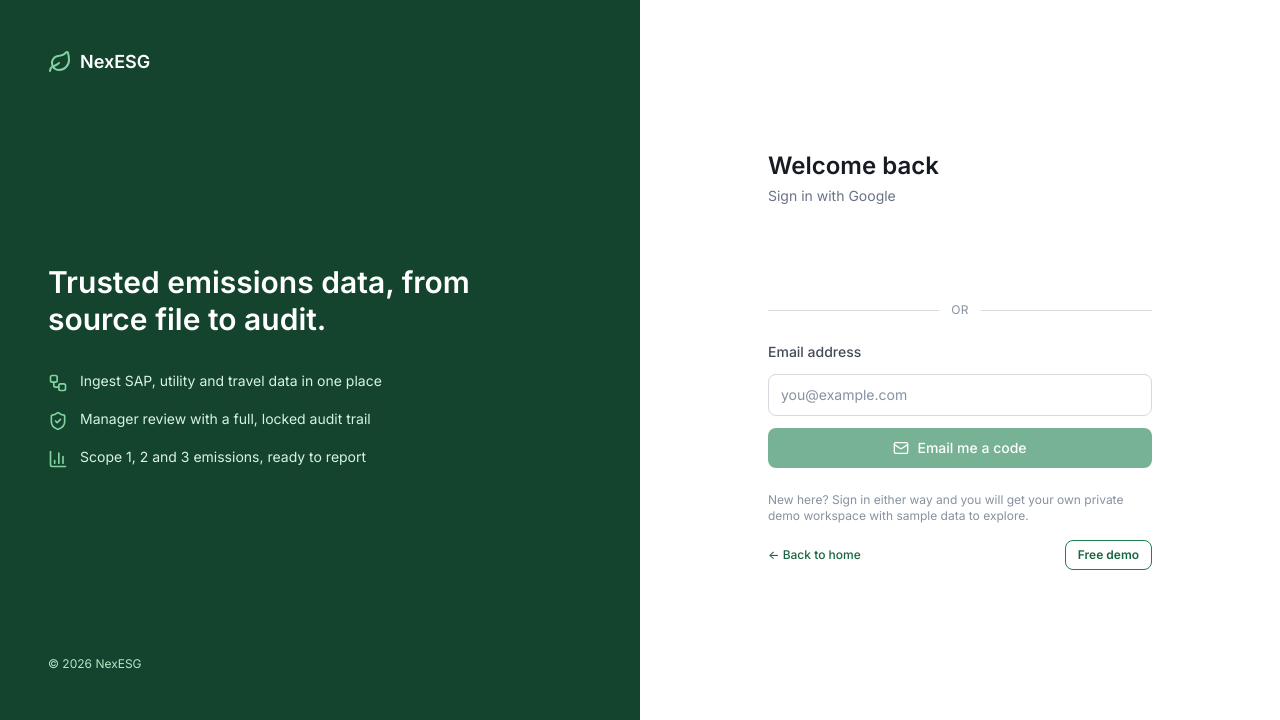
Test: free demo and header menus › the login page has a Free demo button and only the one-line Google heading text
The width and height of the screenshot is (1280, 720).
Expected: the text "Sign in with Google" is shown, x1=768 y1=187 x2=896 y2=204
Click the button "Free demo".
click(1108, 555)  # box x1=1065 y1=540 x2=1152 y2=570
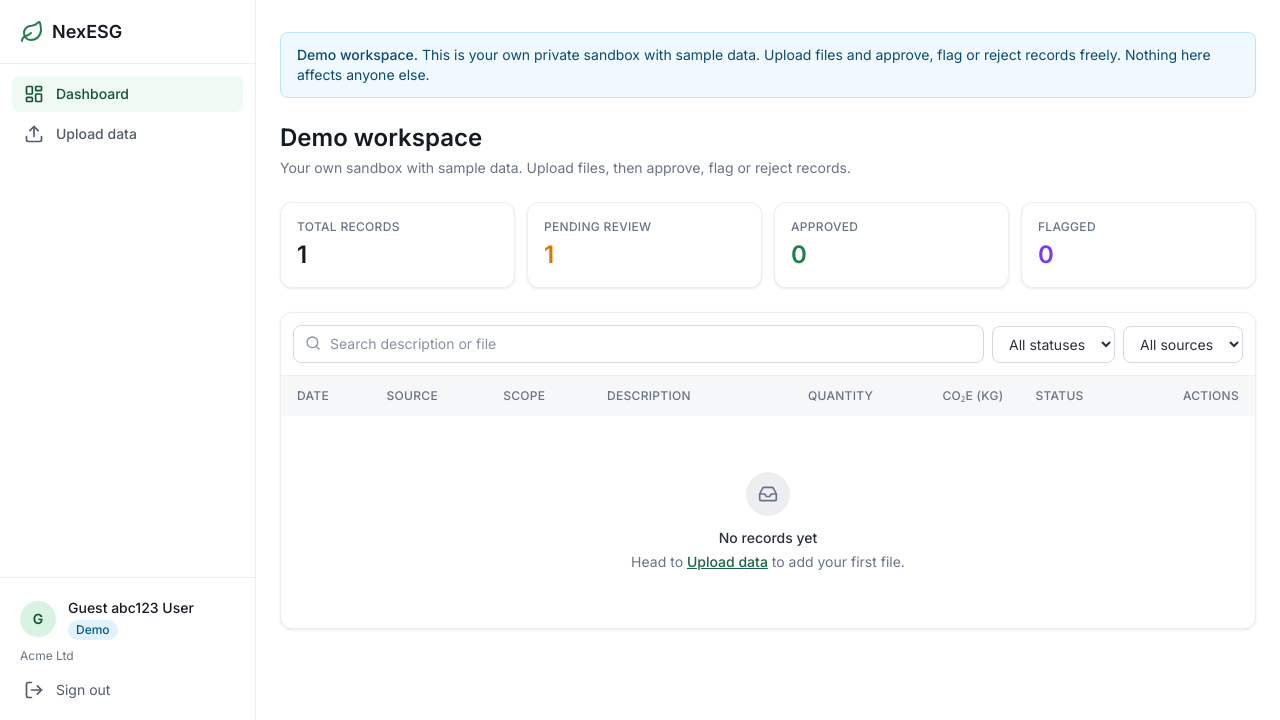
Result: the heading "Demo workspace" is shown at x1=280 y1=123 x2=482 y2=152
